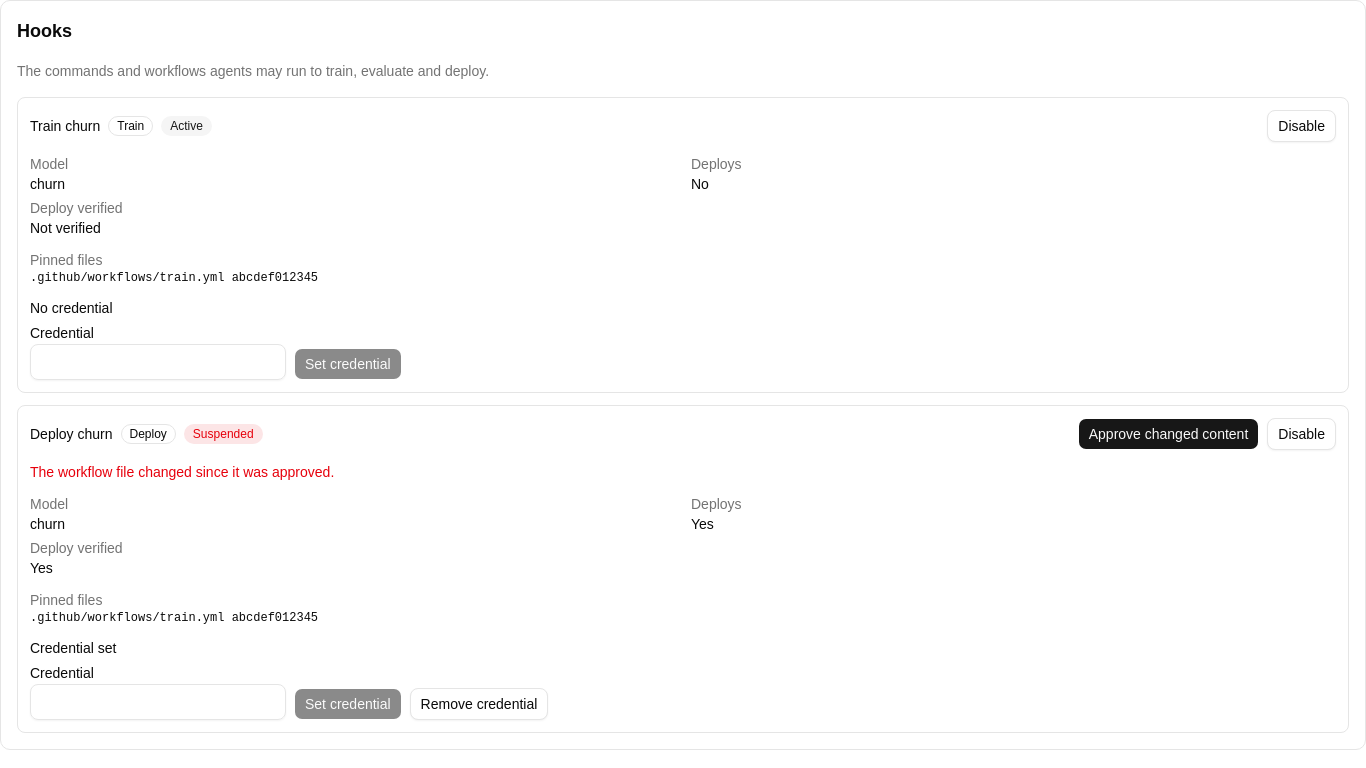
Test: HooksSection › offers Approve changed content only for a suspended hook, and approving updates the row
Click the button "Approve changed content" at {"x": 1168, "y": 434}, box [1078,418,1259,450]
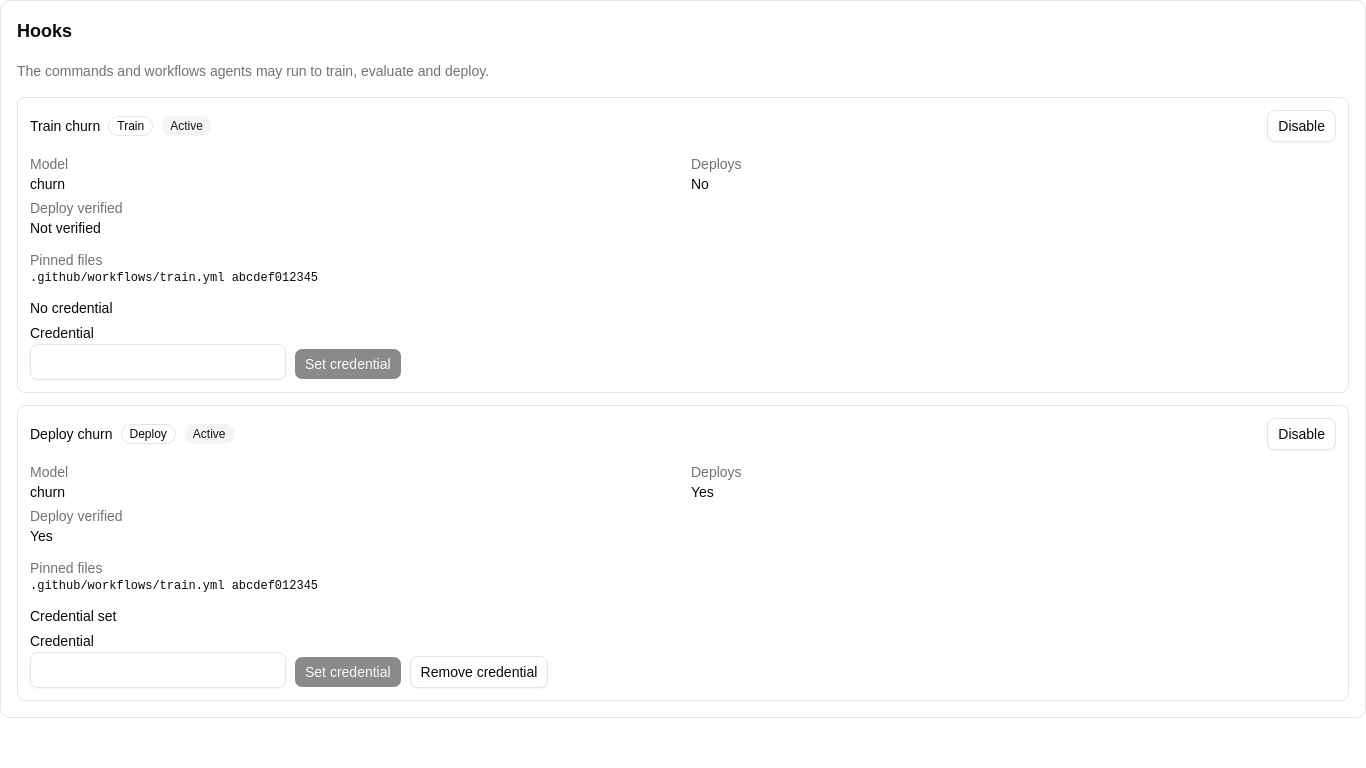
expect the icon "Active" in the row of "Deploy churn" is shown: met, box [193,427,226,441]
expect the button "Approve changed content" is gone: met
